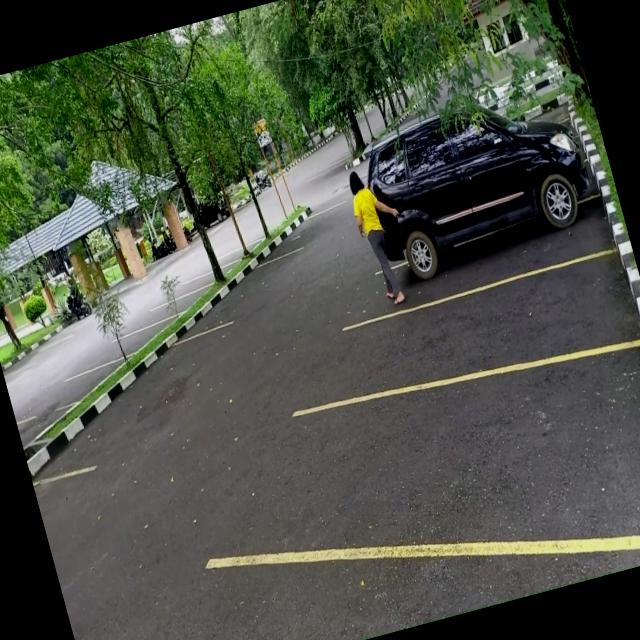car: (333, 120, 614, 322)
free: (274, 322, 640, 622), (333, 254, 640, 420), (12, 330, 266, 497), (194, 252, 316, 331), (45, 364, 122, 411), (140, 288, 214, 326), (102, 322, 166, 362)
